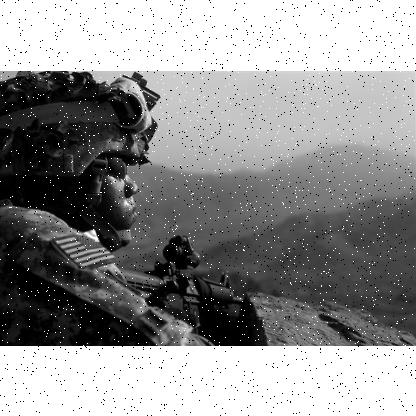gun: (104, 240, 256, 340)
